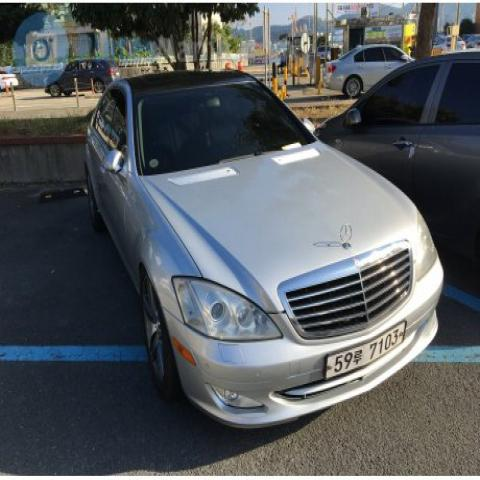LP: (320, 312, 412, 393)
